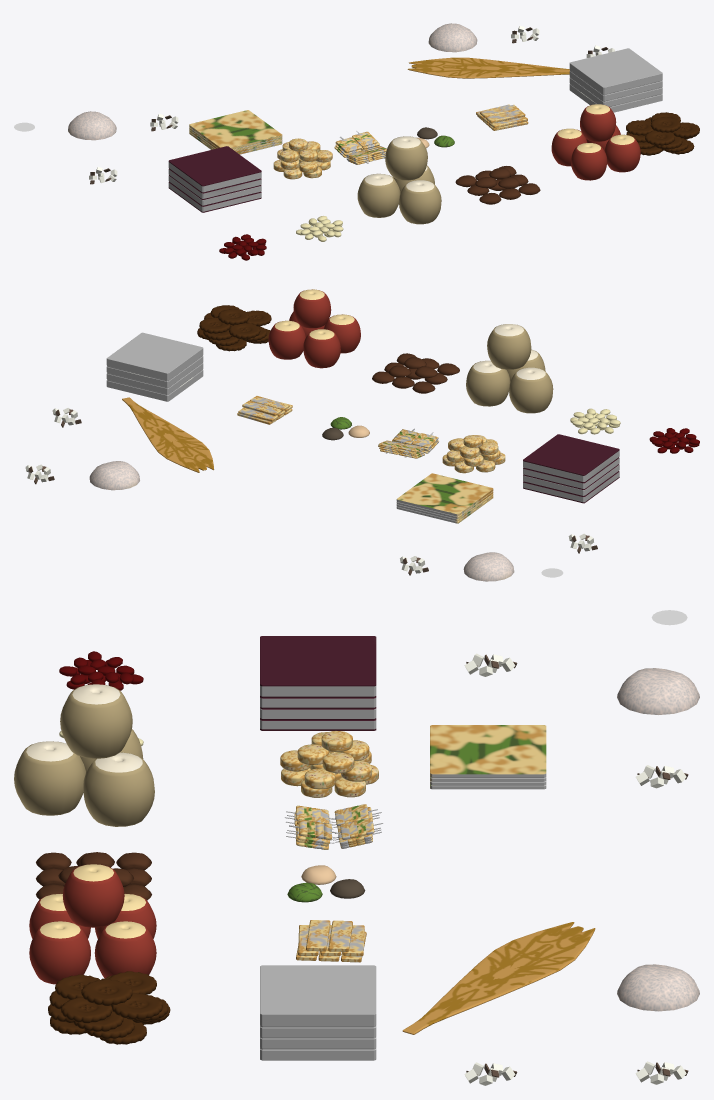
The model's file is teble_Food.fbx.
3 views of the same model, one above another, from view 1: azimuth 30°, elevation 25°; view 2: azimuth 150°, elevation 25°; view 3: azimuth 270°, elevation 25° (orthographic). The views are drawn at different scales.
Parts seen in each view (by area): view 1: Cube.267, Cube.001, Cube.004, Cube.286, Sphere.004, Sphere.008, Sphere.006, Sphere.001, Sphere.007, Sphere, Sphere.012, Sphere.014 (+3 smaller); view 2: Cube.001, Cube.267, Cube.004, Cube.286, Sphere.006, Sphere.008, Sphere.005, Sphere.007, Sphere.003, Sphere.002, Sphere.012, Sphere.014 (+2 smaller); view 3: Cube.001, Cube.267, Cube.004, Cube.286, Sphere.008, Sphere.005, Sphere.004, Sphere.007, Sphere, Sphere.014, Sphere.012, Sphere.002 (+7 smaller).
Part boxes in pixels (x1,y1,x2,y2): Cube.267: [168, 146, 261, 212]; Cube.001: [569, 48, 662, 112]; Cube.004: [189, 110, 282, 154]; Cube.286: [407, 57, 569, 78]; Sphere.004: [399, 180, 441, 224]; Sphere.008: [385, 136, 427, 180]; Sphere.006: [357, 173, 400, 217]; Sphere.001: [571, 143, 607, 180]; Sphere.007: [580, 104, 616, 141]; Sphere: [604, 134, 640, 172]; Sphere.012: [68, 111, 116, 140]; Sphere.014: [428, 23, 477, 52]; Cube.001: [106, 332, 203, 401]; Cube.267: [523, 434, 619, 503]; Cube.004: [396, 473, 493, 523]; Cube.286: [122, 397, 214, 472]; Sphere.006: [509, 367, 553, 413]; Sphere.008: [487, 324, 531, 369]; Sphere.005: [466, 360, 510, 406]; Sphere.007: [293, 289, 331, 328]; Sphere.003: [303, 329, 340, 368]; Sphere.002: [268, 320, 305, 359]; Sphere.012: [463, 552, 514, 581]; Sphere.014: [89, 461, 139, 490]; Cube.001: [260, 965, 376, 1060]; Cube.267: [260, 636, 376, 730]; Cube.004: [430, 725, 546, 789]; Cube.286: [402, 922, 595, 1034]; Sphere.008: [60, 684, 132, 758]; Sphere.005: [83, 752, 154, 826]; Sphere.004: [14, 741, 85, 815]; Sphere.007: [62, 864, 124, 927]; Sphere: [29, 921, 90, 984]; Sphere.014: [617, 964, 699, 1011]; Sphere.012: [617, 668, 699, 714]; Sphere.002: [94, 921, 156, 978].
Bounding box in the file's own units: 111 × 17.71 × 70.78.
1 material, 1 textured.
